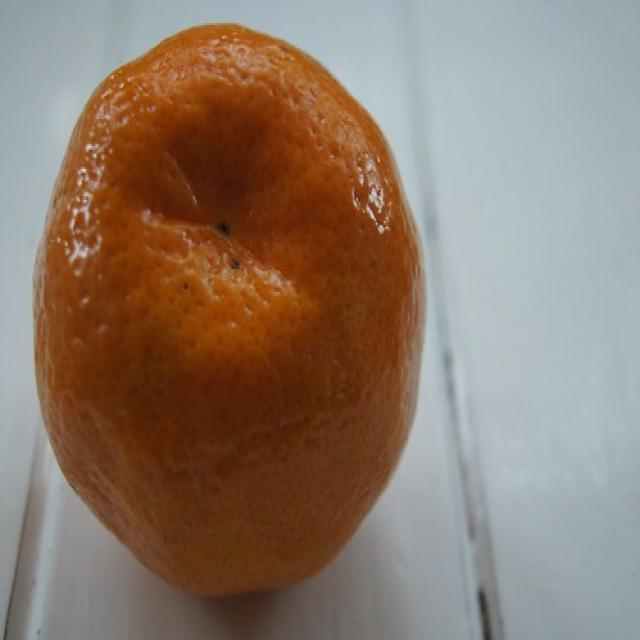Orange: (29, 18, 432, 597)
